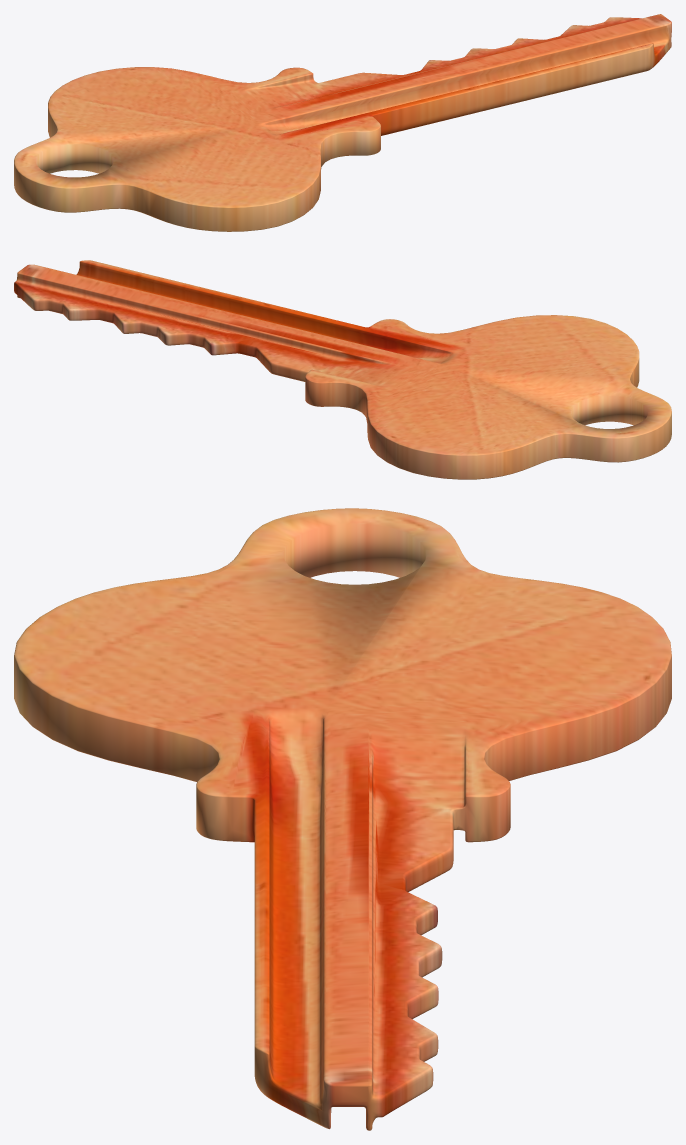
File: 3DKey.glb
3 renders of one model, top to bottom at view 1: azimuth 30°, elevation 25°; view 2: azimuth 150°, elevation 25°; view 3: azimuth 270°, elevation 25°, orthographic. The views are drawn at different scales.
Parts seen in each view (by area): view 1: Key; view 2: Key; view 3: Key.
Part boxes in pixels (bbox=[...]): Key: bbox=[14, 14, 671, 231]; Key: bbox=[14, 260, 671, 479]; Key: bbox=[14, 508, 671, 1130].
Size of the model in its own units: 9.22 by 0.3488 by 4.44.
1 material, 1 textured.
